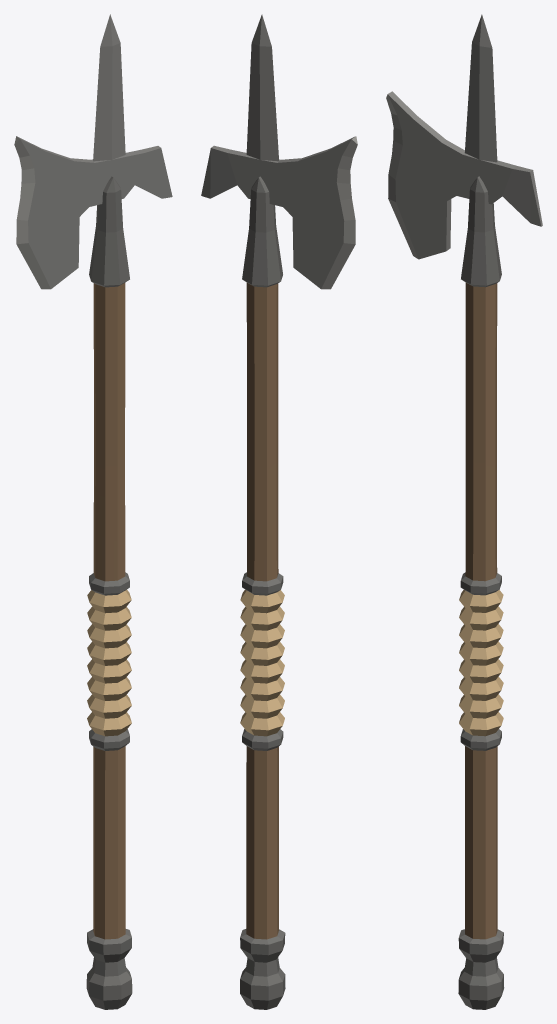
Rendered from SM_pwe_medieval_halberd_07.fbx.
The picture shows the model from 3 angles, left to right: view 1: azimuth 30°, elevation 25°; view 2: azimuth 150°, elevation 25°; view 3: azimuth 330°, elevation 25°; orthographic projection.
Visible parts, largest first — view 1: SM_pwe_medieval_halberd_07; view 2: SM_pwe_medieval_halberd_07; view 3: SM_pwe_medieval_halberd_07.
Boxes of the visible parts, bbox=[...] form: SM_pwe_medieval_halberd_07: bbox=[14, 14, 172, 1009]; SM_pwe_medieval_halberd_07: bbox=[201, 14, 357, 1009]; SM_pwe_medieval_halberd_07: bbox=[386, 14, 542, 1009].
Bounding box in the file's own units: 24.18 × 147 × 6.32.
